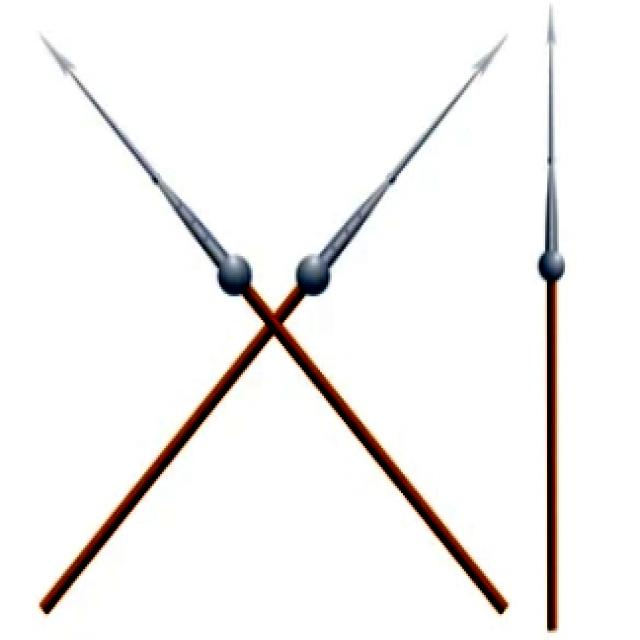spear: (524, 4, 608, 638)
